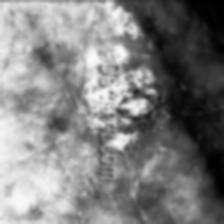Potentially Malignant Skin Tumors: (118, 37, 154, 150), (82, 52, 96, 130), (108, 4, 142, 34)
